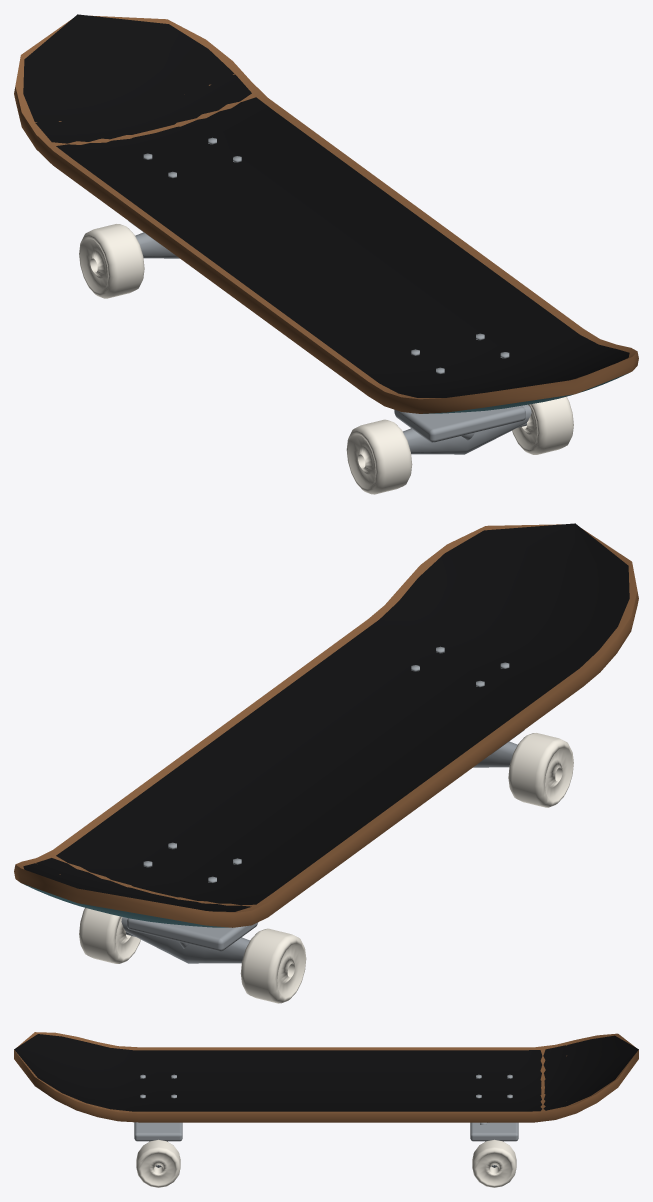
Rendered from hero-board.lod1.glb.
3 renders of one model, top to bottom at view 1: azimuth 30°, elevation 25°; view 2: azimuth 150°, elevation 25°; view 3: azimuth 270°, elevation 25°, orthographic. The views are drawn at different scales.
Parts seen in each view (by area): view 1: GripTape, Deck, Truck_F, Wheel_FL, Wheel_RL, Wheel_FR; view 2: GripTape, Deck, Wheel_RL, Wheel_FL, Truck_R, Wheel_RR; view 3: GripTape, Deck, Wheel_FR, Wheel_RR, Truck_F, Truck_R.
Boxes of the visible parts, left/top/right/bottom form: GripTape: left=23, top=14, right=629, bottom=397; Deck: left=14, top=15, right=638, bottom=413; Truck_F: left=394, top=404, right=531, bottom=454; Wheel_FL: left=346, top=419, right=412, bottom=494; Wheel_RL: left=79, top=224, right=144, bottom=298; Wheel_FR: left=512, top=396, right=573, bottom=454; GripTape: left=23, top=523, right=629, bottom=911; Deck: left=14, top=524, right=638, bottom=927; Wheel_RL: left=240, top=928, right=306, bottom=1003; Wheel_FL: left=508, top=733, right=573, bottom=807; Truck_R: left=121, top=917, right=258, bottom=963; Wheel_RR: left=79, top=907, right=140, bottom=963; GripTape: left=14, top=1034, right=638, bottom=1111; Deck: left=14, top=1032, right=638, bottom=1122; Wheel_FR: left=136, top=1139, right=180, bottom=1187; Wheel_RR: left=472, top=1139, right=516, bottom=1187; Truck_F: left=134, top=1122, right=182, bottom=1167; Truck_R: left=470, top=1122, right=518, bottom=1167.
Size of the model in its own units: 0.203 by 0.1551 by 0.8.
